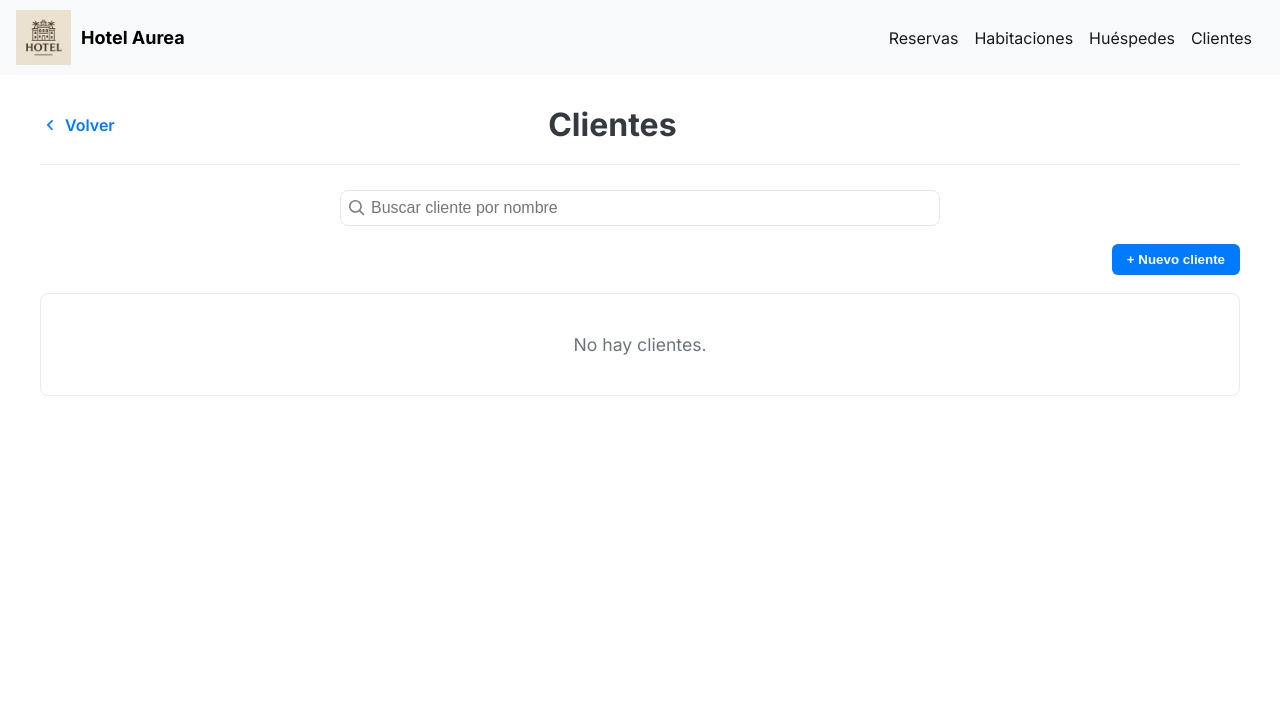
Test: Navegación y Smoke Tests › Debe navegar a Nuevo Cliente
Click the button "+ Nuevo cliente": click(1176, 260) [1112,244,1240,275]
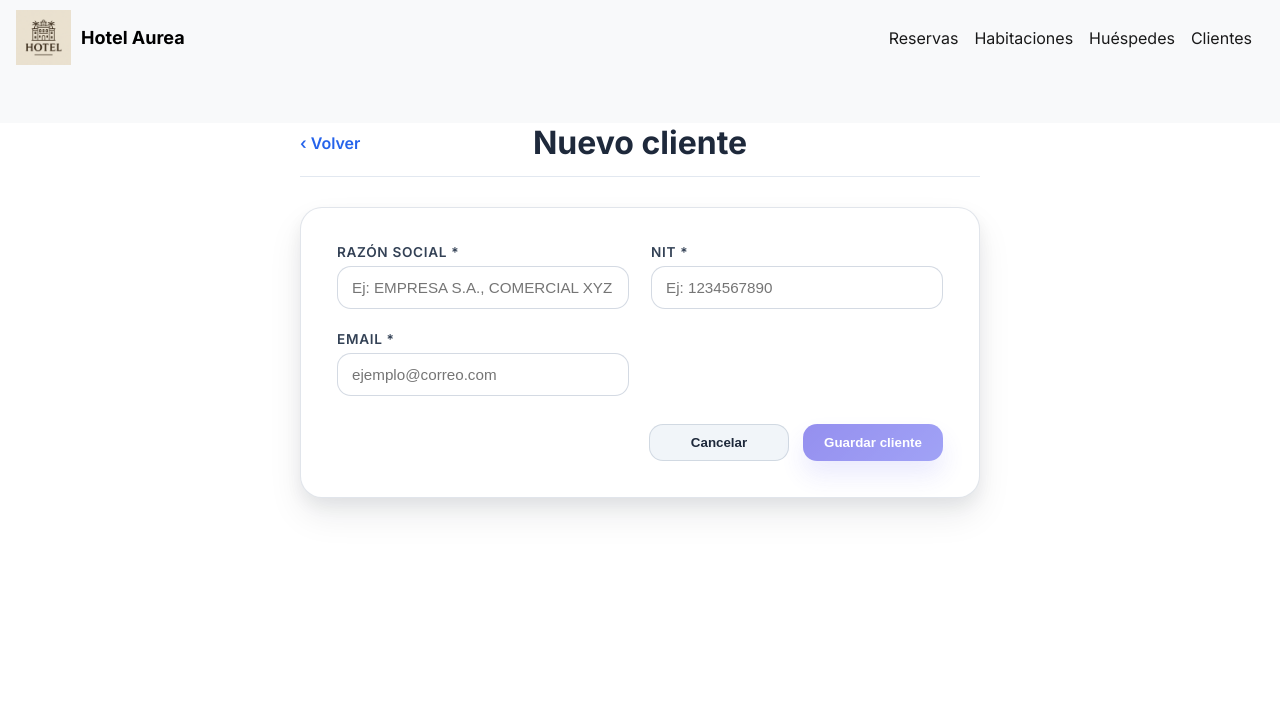
Now the form is shown, box [300,207,980,498]
Now the field named "razonSocial" is shown, box [337,266,629,309]
Now the field named "nit" is shown, box [651,266,943,309]
